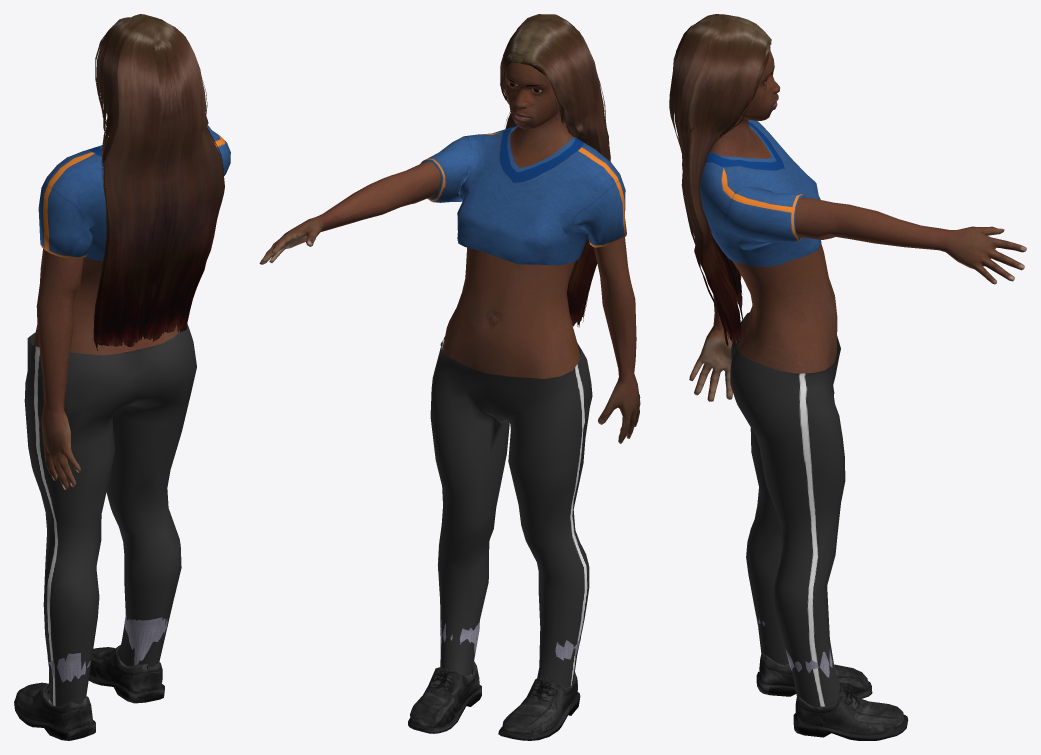
Rendered from pointing_1.gltf.
3 views of the same model, side by side, from view 1: azimuth 30°, elevation 25°; view 2: azimuth 150°, elevation 25°; view 3: azimuth 270°, elevation 25° (orthographic). The views are drawn at different scales.
Parts seen in each view (by area): view 1: pointing; view 2: pointing; view 3: pointing.
Part boxes in pixels (left/top/right/bottom): pointing: left=14, top=14, right=230, bottom=740; pointing: left=259, top=14, right=640, bottom=740; pointing: left=669, top=14, right=1026, bottom=740.
Size of the model in its own units: 0.5387 by 1.42 by 0.6642.
6 materials, 6 textured.
